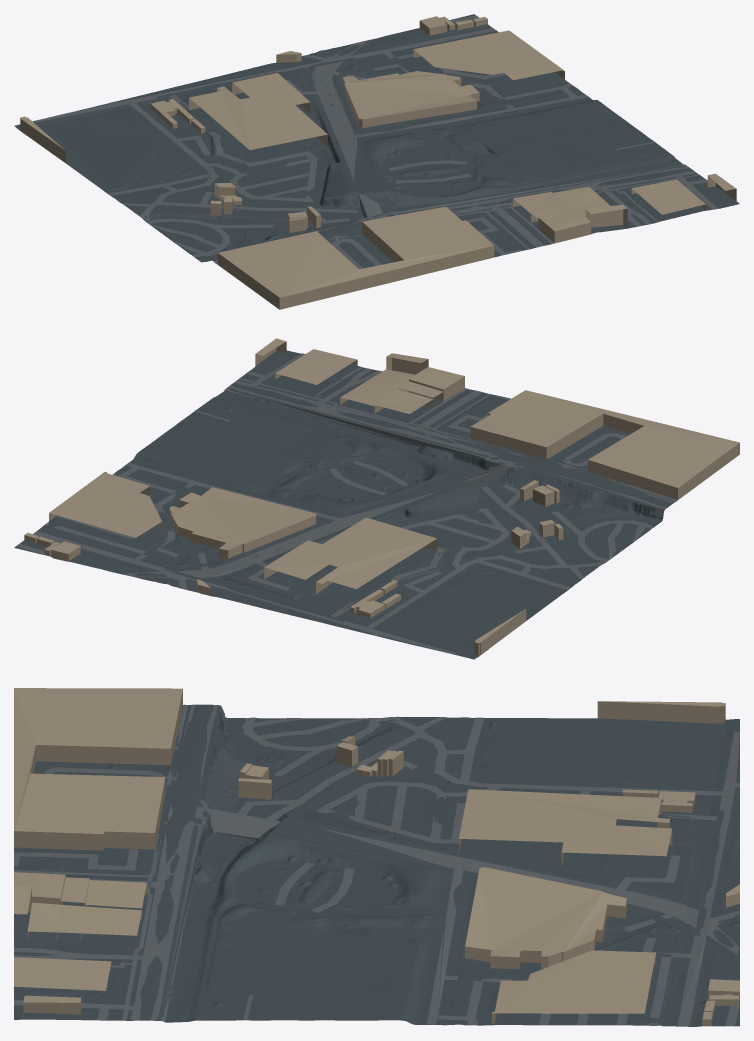
The model's file is epsg26910-1440-10880.lod0.glb.
The picture shows the model from 3 angles, top to bottom: view 1: azimuth 30°, elevation 25°; view 2: azimuth 150°, elevation 25°; view 3: azimuth 270°, elevation 25°; orthographic projection. The views are drawn at different scales.
Parts seen in each view (by area): view 1: epsg26910-1440-10880-lod0; view 2: epsg26910-1440-10880-lod0; view 3: epsg26910-1440-10880-lod0.
Part boxes in pixels (left/top/right/bottom): epsg26910-1440-10880-lod0: left=14, top=14, right=739, bottom=309; epsg26910-1440-10880-lod0: left=14, top=338, right=739, bottom=659; epsg26910-1440-10880-lod0: left=14, top=688, right=739, bottom=1026.
Size of the model in its own units: 384 by 25.56 by 384.
